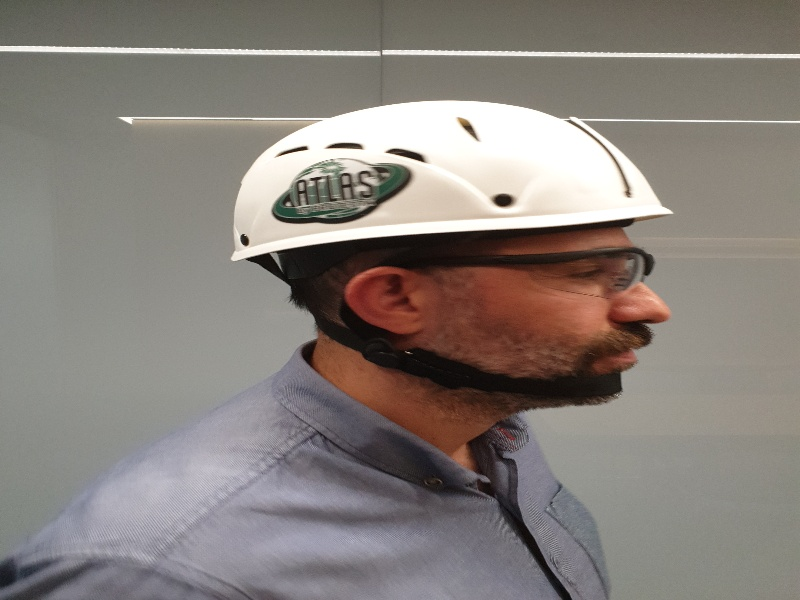Baret: (226, 100, 677, 247)
Gozluk: (401, 247, 659, 296)
